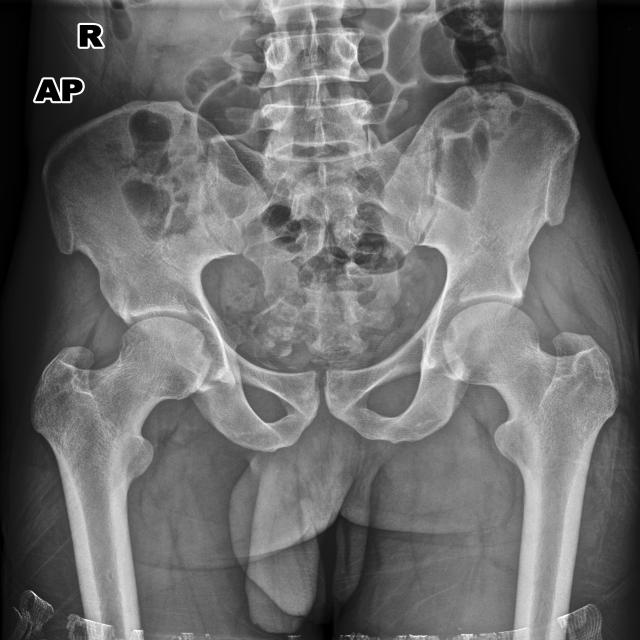normal-left: (445, 302, 618, 599)
normal-right: (31, 317, 210, 597)
